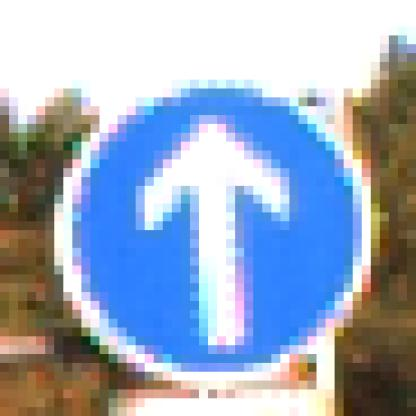AheadOnly: (46, 54, 372, 364)
